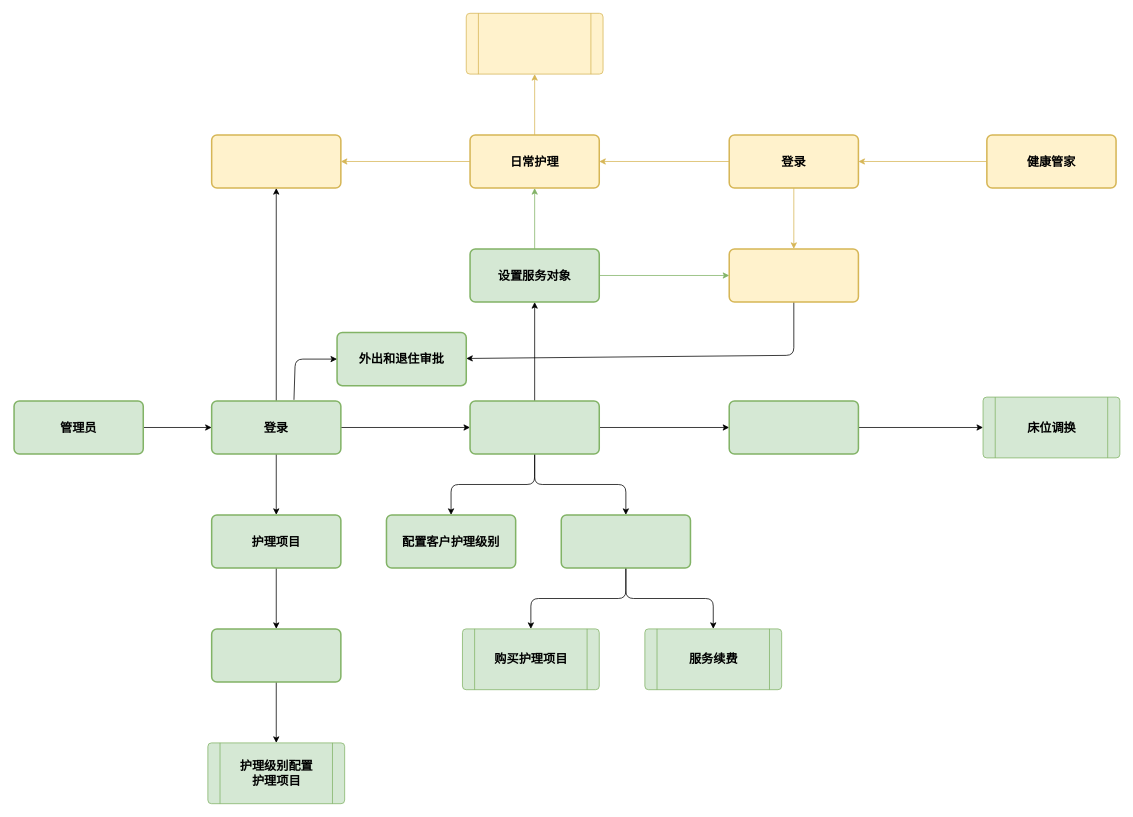
Image size: 1133x817. Some labels were removed from this diagram. The shapes that lost their labels are listed below. From the top down, each one's centre as x and y in pixels, then its label:
At pixel 534 43: "生成护理记录".
At pixel 276 161: "浏览护理记录".
At pixel 793 275: "外出和退住申请".
At pixel 534 427: "客户入住登记".
At pixel 793 427: "床位分配".
At pixel 625 541: "服务关注".
At pixel 276 655: "护理级别".
